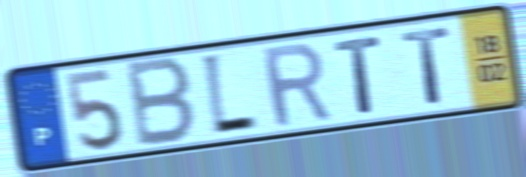5: (62, 64, 126, 155)
B: (125, 54, 199, 151)
L: (198, 51, 261, 141)
R: (257, 39, 336, 131)
T: (398, 24, 454, 108), (331, 33, 386, 117)
